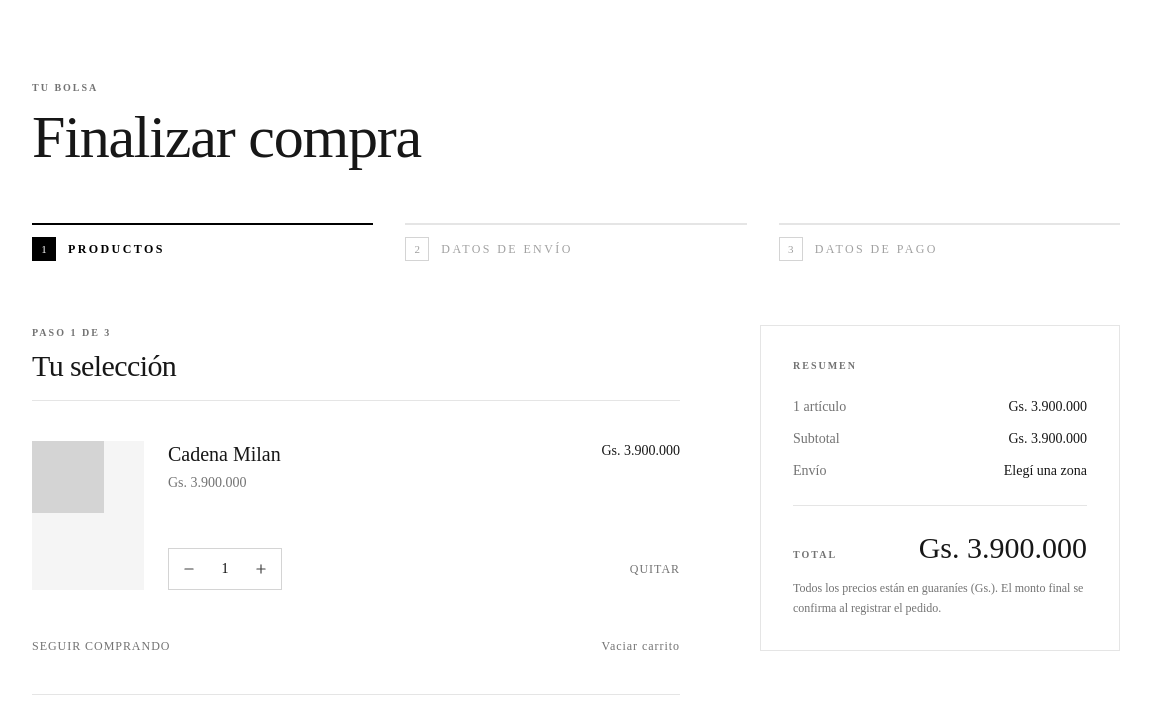
Test: CheckoutFlow: step 1 (products) › adds one unit
Expected: the heading "Finalizar compra" is shown, [32,104,421,170]
Click the button named "Agregar una unidad de Cadena Milan". click: [261, 569]
box: [241,549,281,589]
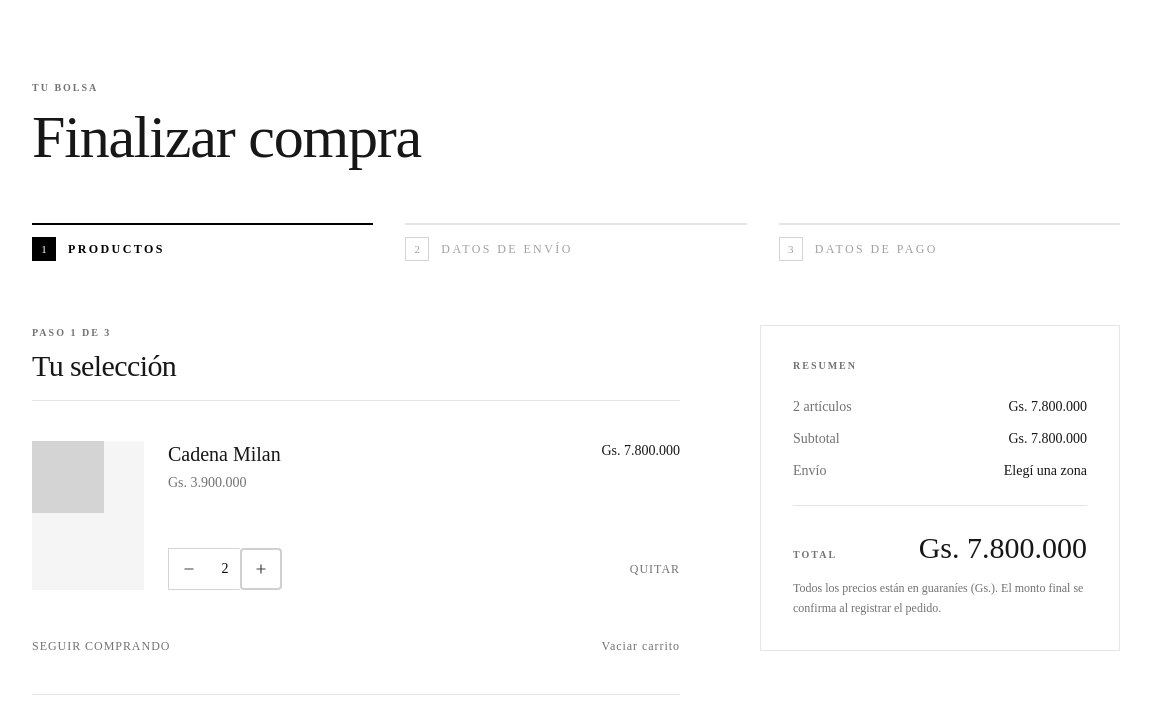
Now the text "Gs. 7.800.000" in the row of "Cadena Milan" is shown, box [601,443,680,458]
